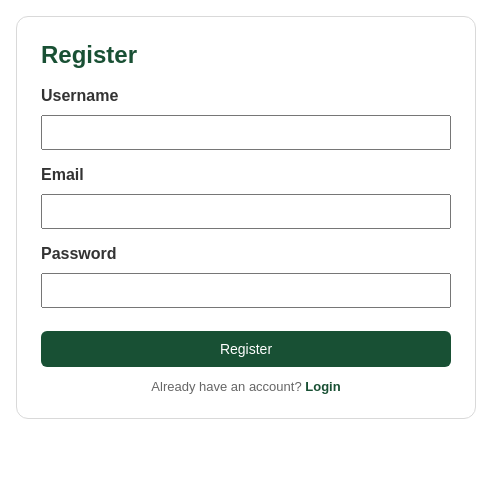
Test case: Register › shows server error when fetch throws
Type "TEST" into the field named "username" below "Username" at x=246, y=132, box left=41, top=115, right=451, bottom=150
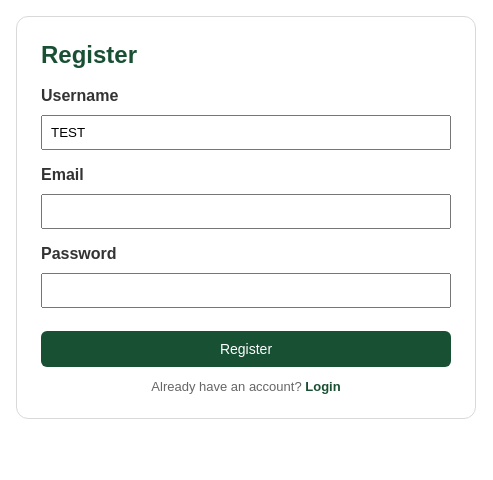
Type "test@example.com" into the field named "email" below "Email" at x=246, y=212, box left=41, top=194, right=451, bottom=229
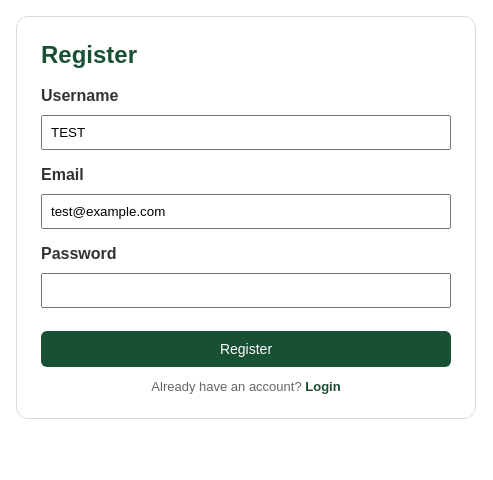
Type "123456" into the password field named "password" at x=246, y=290, box left=41, top=273, right=451, bottom=308
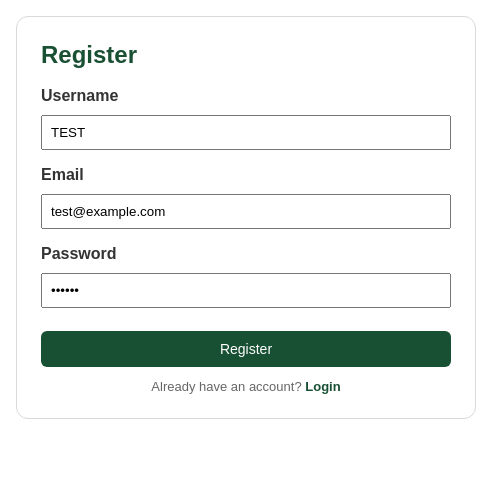
Click the button "Register" at x=246, y=349, box left=41, top=331, right=451, bottom=367
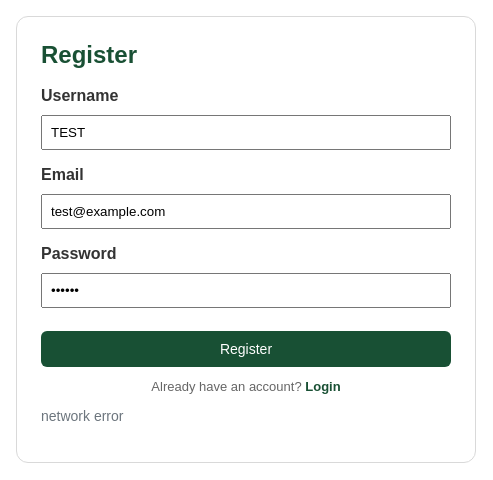
Result: the text "network error" is shown at left=41, top=408, right=124, bottom=424
